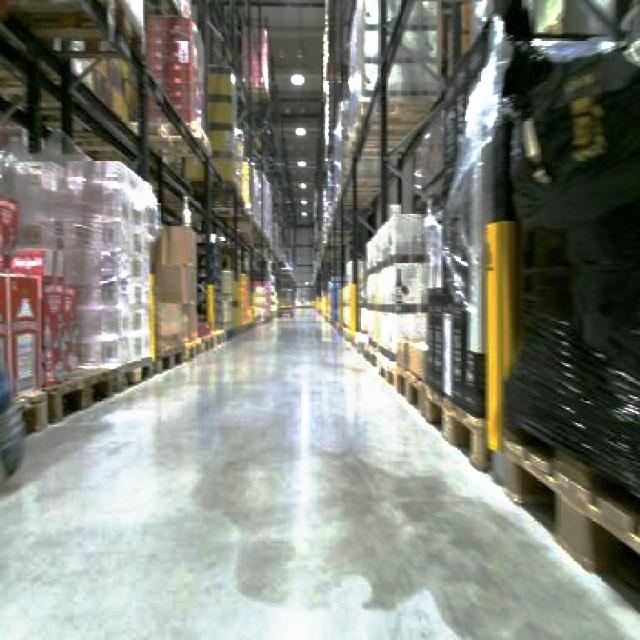ground: (0, 303, 638, 638)
pallet: (317, 0, 638, 638), (362, 331, 638, 638)
